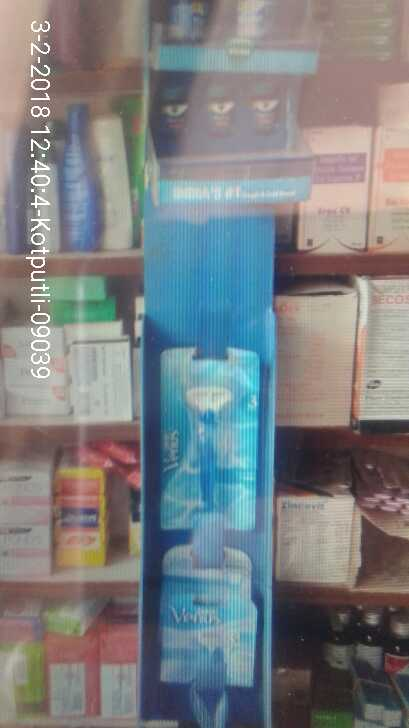venus: (163, 346, 270, 523), (166, 547, 259, 700)
